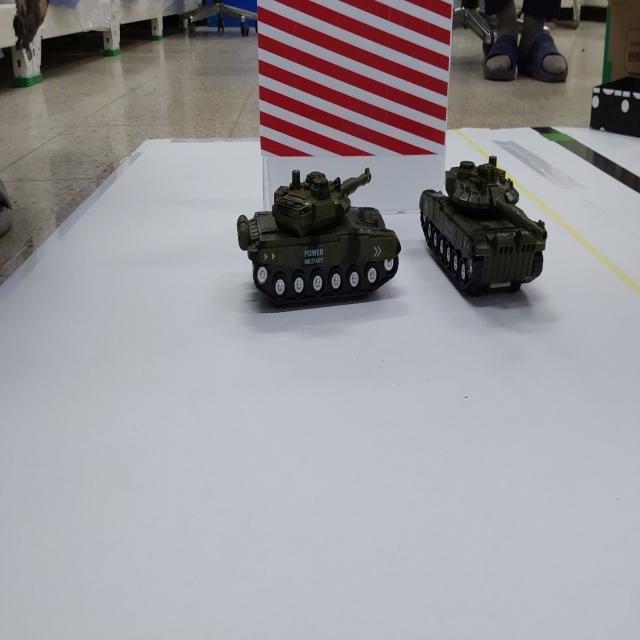enem_tank: (237, 168, 401, 305), (419, 156, 547, 295)
